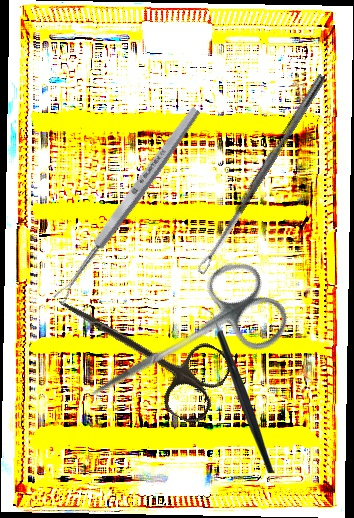Chopper: (199, 308, 275, 473)
Iris Scissors: (67, 249, 298, 439), (38, 270, 237, 429)
Surgical Spoon: (51, 104, 203, 306), (195, 72, 327, 276)
